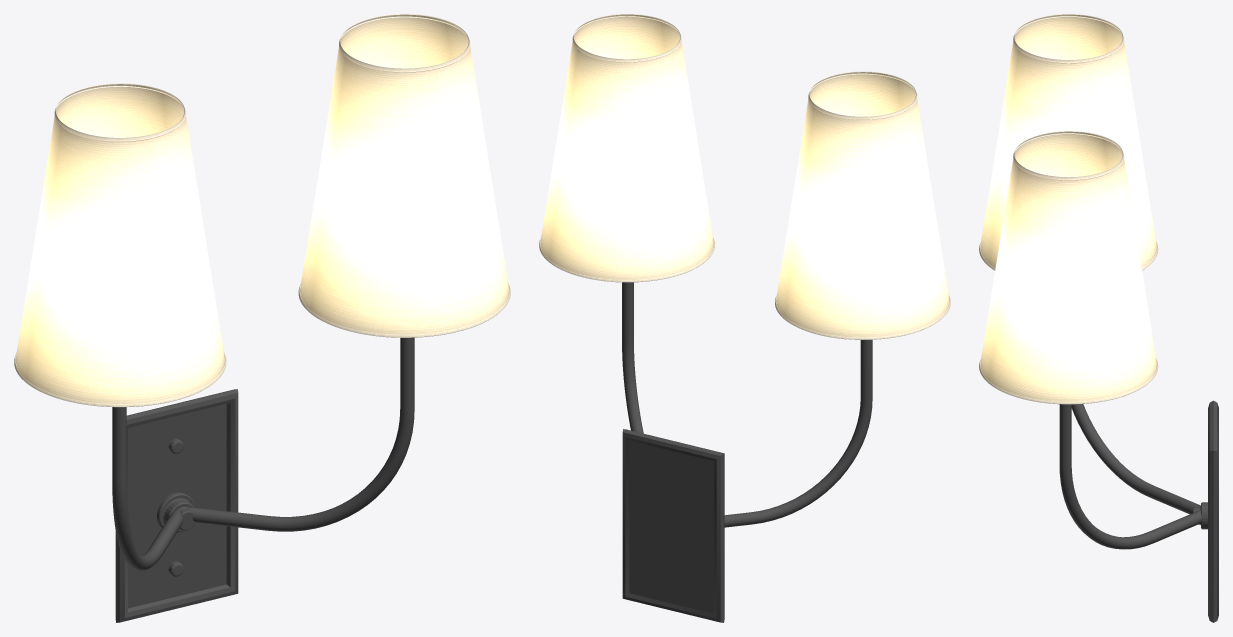
Rendered from CGT_Wall-Light_01_001.glb.
3 views of the same model, side by side, from view 1: azimuth 30°, elevation 25°; view 2: azimuth 150°, elevation 25°; view 3: azimuth 270°, elevation 25° (orthographic). The views are drawn at different scales.
Visible parts, largest first — view 1: CGT_Wall-Light_01_001; view 2: CGT_Wall-Light_01_001; view 3: CGT_Wall-Light_01_001.
Part boxes in pixels (box(x1,y1,x2,y2)): CGT_Wall-Light_01_001: box(14, 14, 510, 622); CGT_Wall-Light_01_001: box(539, 14, 950, 622); CGT_Wall-Light_01_001: box(979, 14, 1218, 622).
Size of the model in its own units: 0.5086 by 0.6176 by 0.2673.
Materials: 3 (1 with a texture image).
